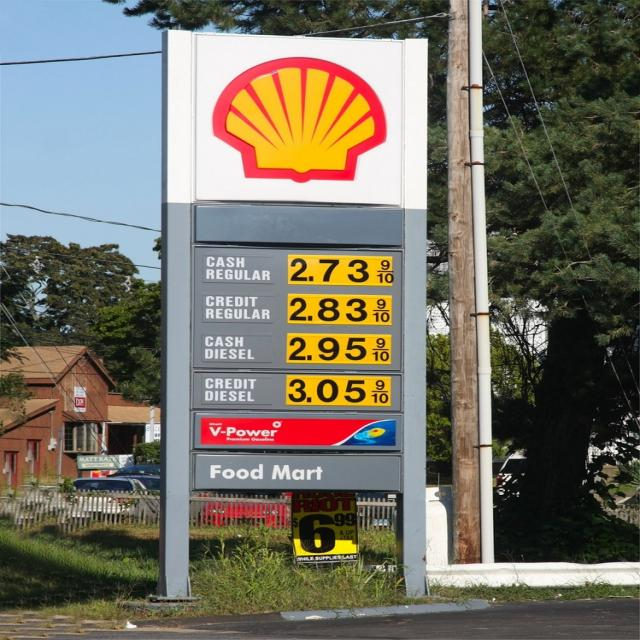shell: (211, 57, 393, 187)
